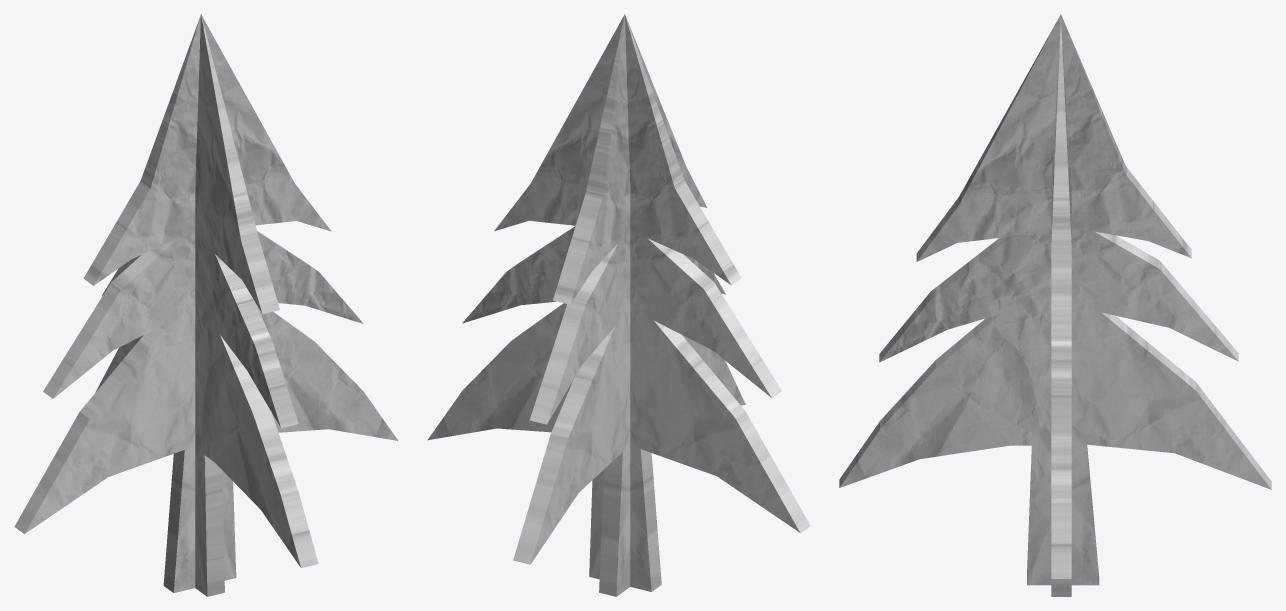
Rendered from TreeWhite_1.fbx.
3 views of the same model, side by side, from view 1: azimuth 30°, elevation 25°; view 2: azimuth 150°, elevation 25°; view 3: azimuth 270°, elevation 25° (orthographic).
Parts seen in each view (by area): view 1: Plane.001; view 2: Plane.001; view 3: Plane.001.
Boxes of the visible parts, x1=… form: Plane.001: x1=14, y1=14, x2=398, y2=596; Plane.001: x1=427, y1=14, x2=810, y2=596; Plane.001: x1=839, y1=14, x2=1271, y2=596.
Bounding box in the file's own units: 317 × 460 × 317.
